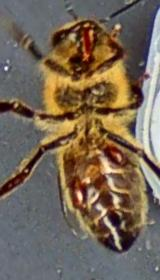varroa_mite: (68, 171, 94, 210), (92, 140, 128, 164)
